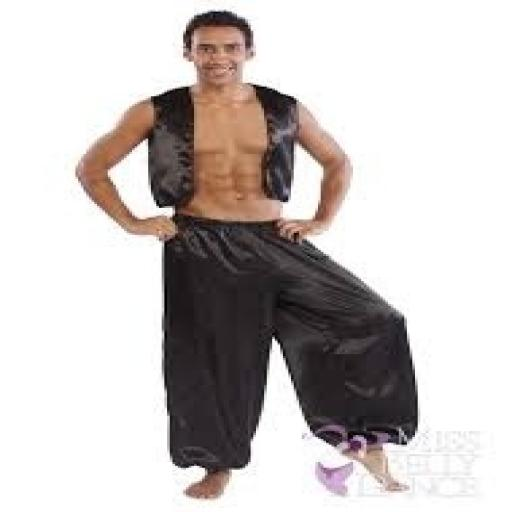dancing: (70, 8, 423, 502)
